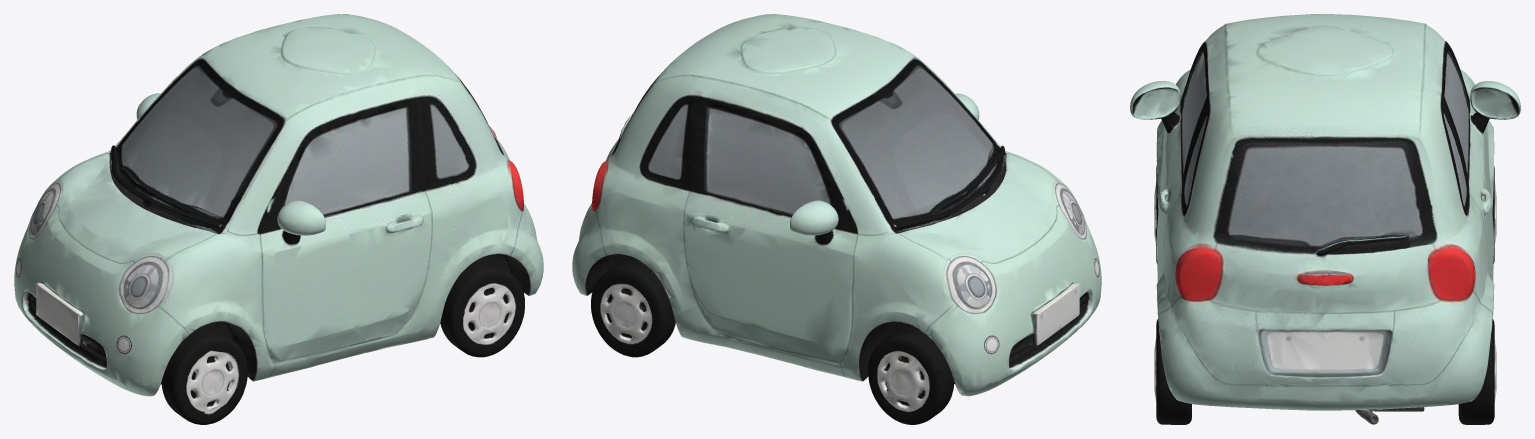
File: rank0_v2.glb
3 renders of one model, left to right at view 1: azimuth 30°, elevation 25°; view 2: azimuth 150°, elevation 25°; view 3: azimuth 270°, elevation 25°, orthographic. The views are drawn at different scales.
Bounding box in the file's own units: 1.9 × 1.15 × 1.26.
Materials: 1 (1 with a texture image).
